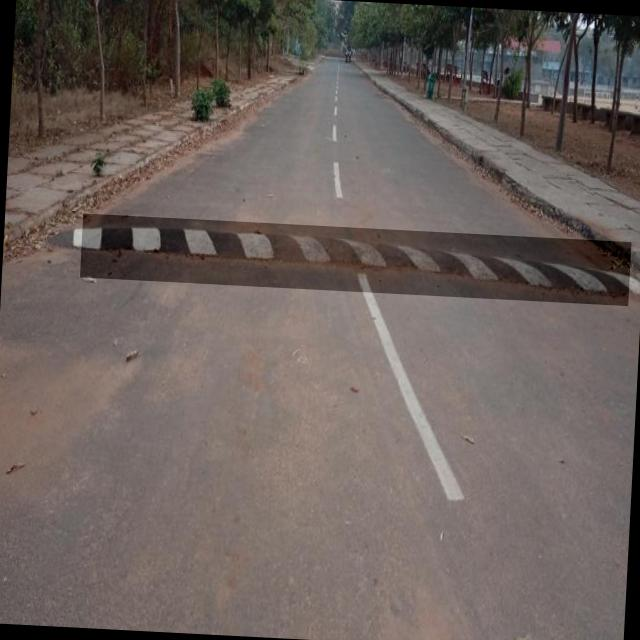bump: (79, 214, 632, 307)
